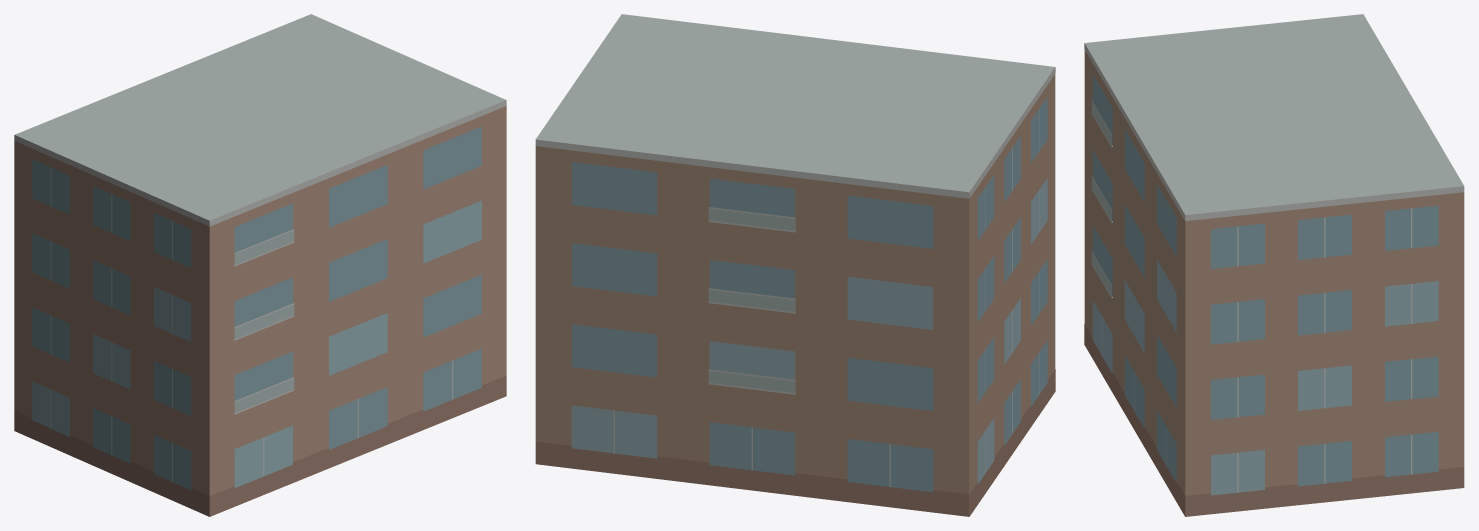
The model's file is survey-upis-33040063.glb.
3 renders of one model, left to right at view 1: azimuth 30°, elevation 25°; view 2: azimuth 150°, elevation 25°; view 3: azimuth 270°, elevation 25°, orthographic. The views are drawn at different scales.
Parts seen in each view (by area): view 1: survey-upis-33040063.tmp; view 2: survey-upis-33040063.tmp; view 3: survey-upis-33040063.tmp.
Part boxes in pixels (box(x1,y1,x2,y2)): survey-upis-33040063.tmp: box(14, 14, 506, 516); survey-upis-33040063.tmp: box(535, 14, 1055, 516); survey-upis-33040063.tmp: box(1084, 14, 1464, 516).
Bounding box in the file's own units: 17.46 × 12.2 × 13.93.
